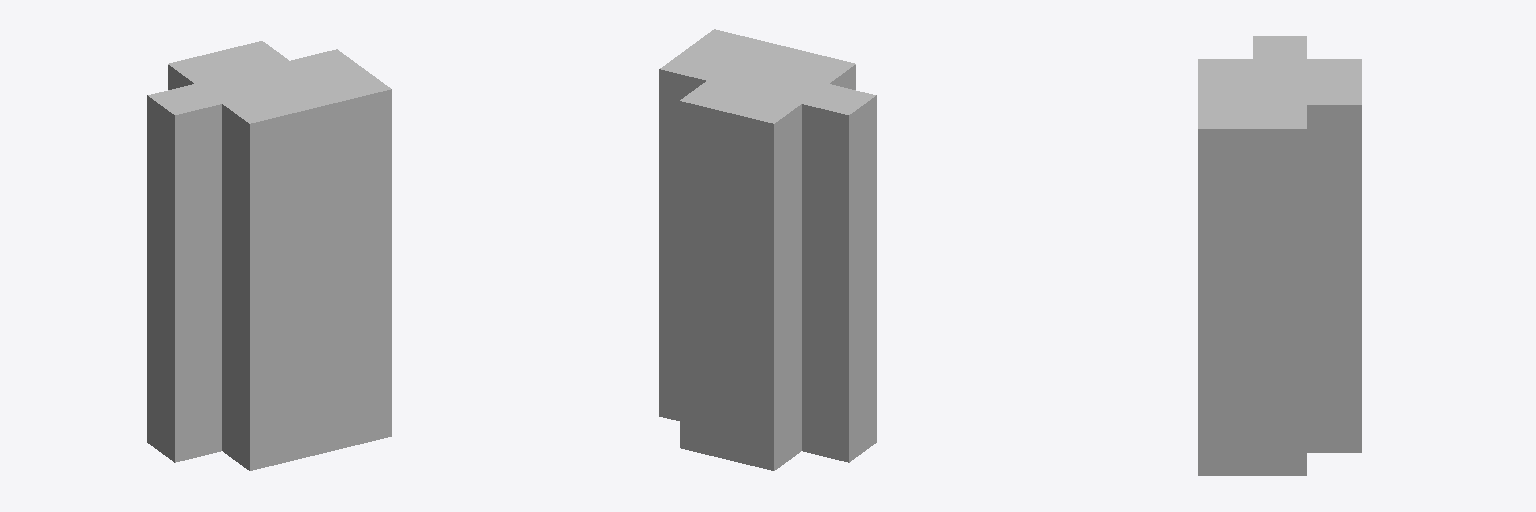
Rendered from Building #1 Hitbox.obj.
The picture shows the model from 3 angles: view 1: azimuth 30°, elevation 25°; view 2: azimuth 150°, elevation 25°; view 3: azimuth 270°, elevation 25°; orthographic projection.
Parts seen in each view (by area): view 1: BuildingRoof.001; view 2: BuildingRoof.001; view 3: BuildingRoof.001.
Part boxes in pixels (left/top/right/bottom): BuildingRoof.001: left=147, top=41, right=391, bottom=470; BuildingRoof.001: left=659, top=29, right=876, bottom=470; BuildingRoof.001: left=1198, top=36, right=1361, bottom=475.
Size of the model in its own units: 4 by 7 by 3.